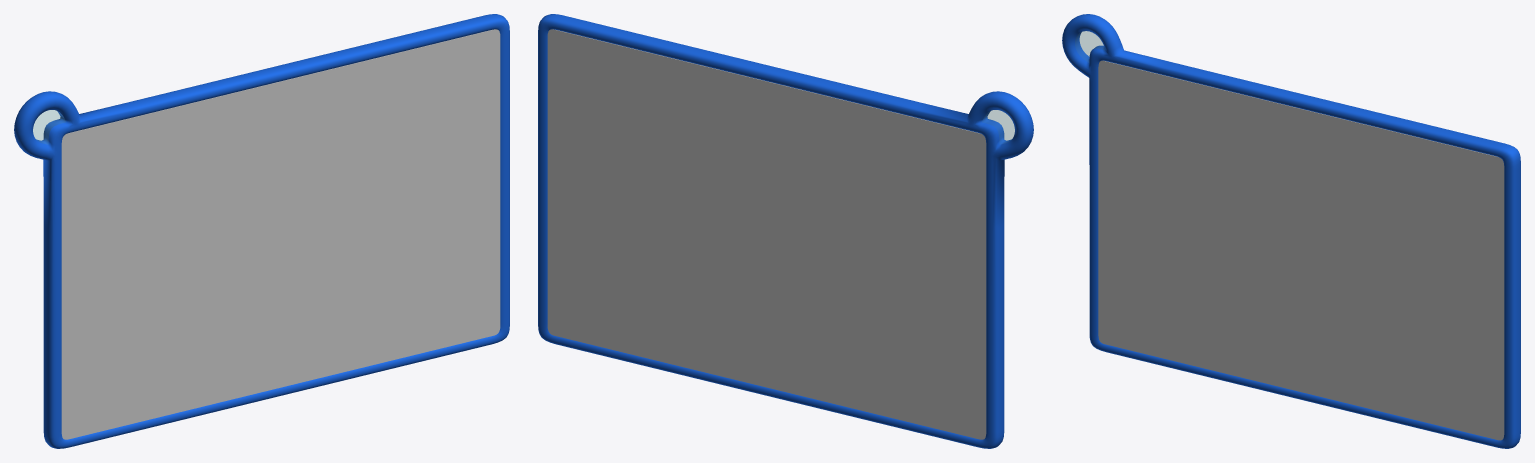
File: SkyboxReviewPanel.fbx
3 views of the same model, side by side, from view 1: azimuth 30°, elevation 25°; view 2: azimuth 150°, elevation 25°; view 3: azimuth 330°, elevation 25° (orthographic). The views are drawn at different scales.
Parts seen in each view (by area): view 1: SkyboxReviewFrame; view 2: SkyboxReviewFrame; view 3: SkyboxReviewFrame.
Boxes of the visible parts, bbox=[...] form: SkyboxReviewFrame: bbox=[14, 14, 509, 448]; SkyboxReviewFrame: bbox=[538, 14, 1033, 448]; SkyboxReviewFrame: bbox=[1062, 14, 1520, 448].
Size of the model in its own units: 1.48 by 1.03 by 0.0518.
